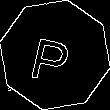P_N: (31, 26, 79, 84)
